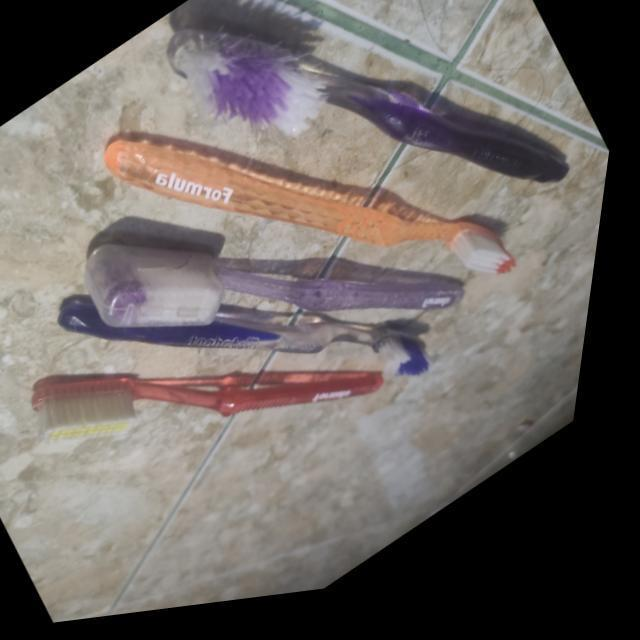toothbrush: (155, 16, 580, 216), (104, 126, 534, 298), (80, 226, 500, 342), (54, 286, 458, 397), (26, 367, 414, 462)
